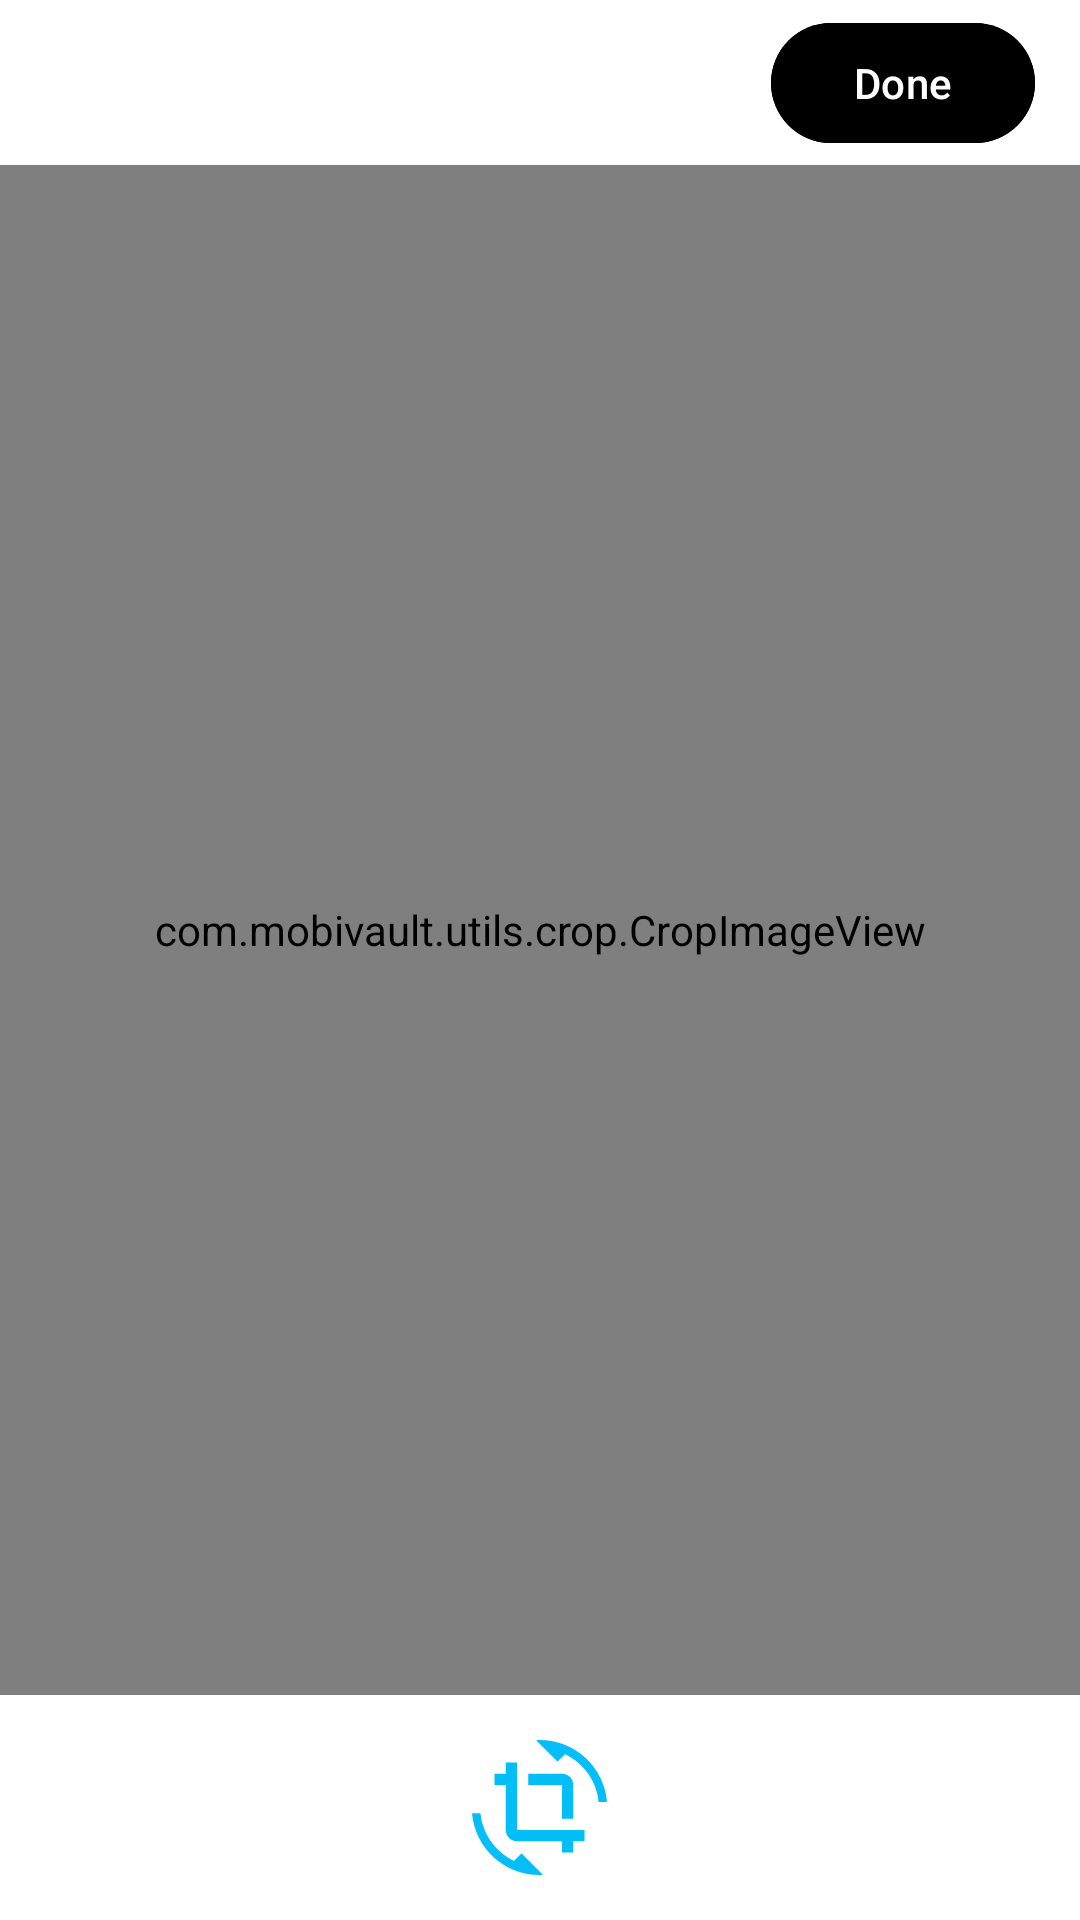

Icon bounding boxes for this 1080×1920 phone screenshot, format (x1, y1, x2, y2):
crop rotate: (472, 1740, 607, 1875)
